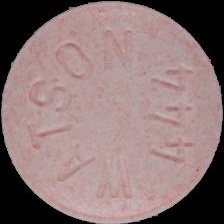0591-0444: (0, 0, 224, 224)
